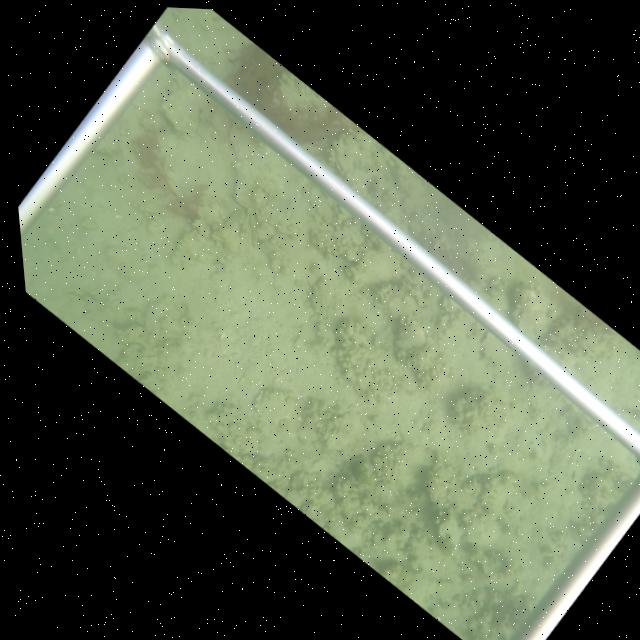Oyster-Closed: (510, 284, 556, 341), (102, 244, 152, 286), (248, 214, 259, 250)
Oyster-Indeterminate: (347, 245, 404, 287), (158, 86, 201, 137), (252, 386, 295, 427), (396, 316, 427, 354)
